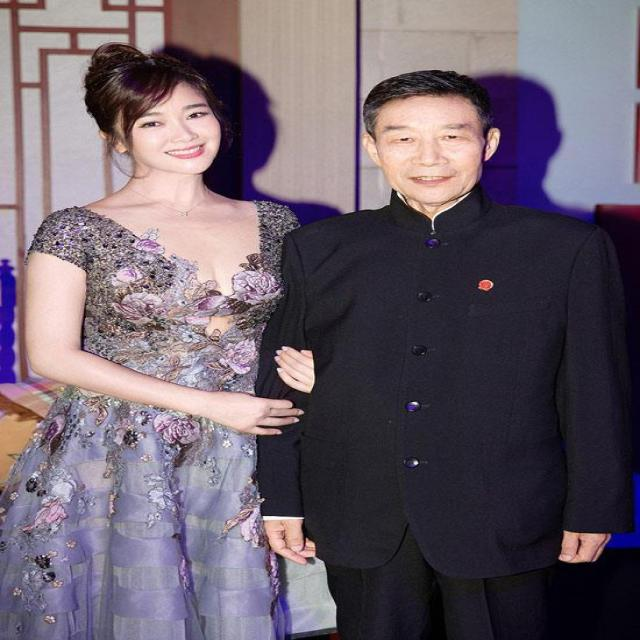obstacle: (259, 46, 640, 640), (0, 36, 313, 640)
